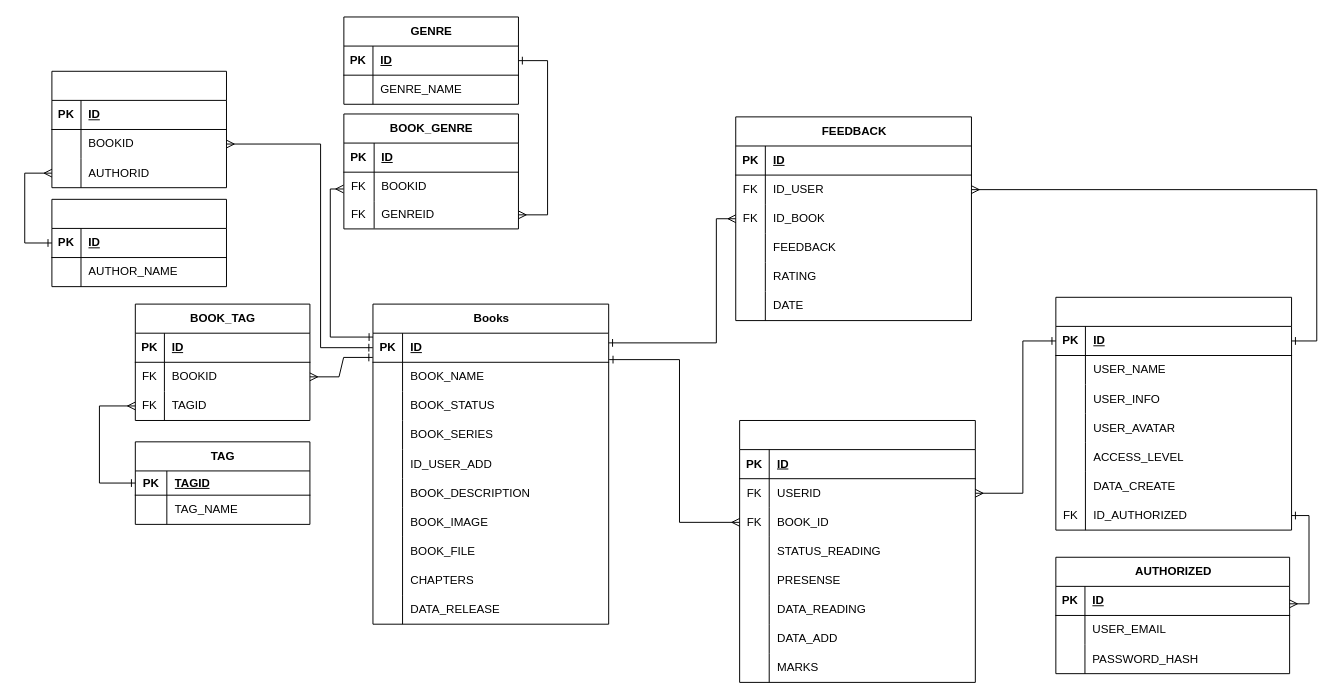
Image size: 1342x699. Some labels were removed from this diagram. Here are the shapes that lost their labels. From the top down, the box of each, then its label:
(51, 70, 226, 188): BOOK_AUTHOR
(51, 198, 226, 287): AUTHORS
(1055, 296, 1292, 530): USERS
(739, 420, 975, 682): USER_BOOKMARKS
